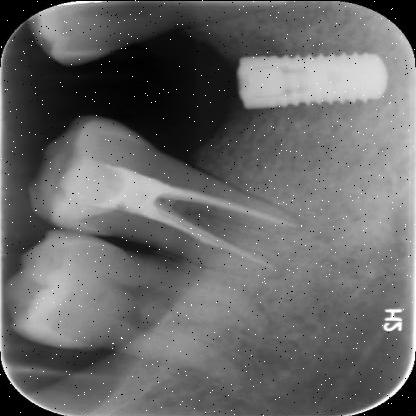ITI: (232, 40, 392, 124)
